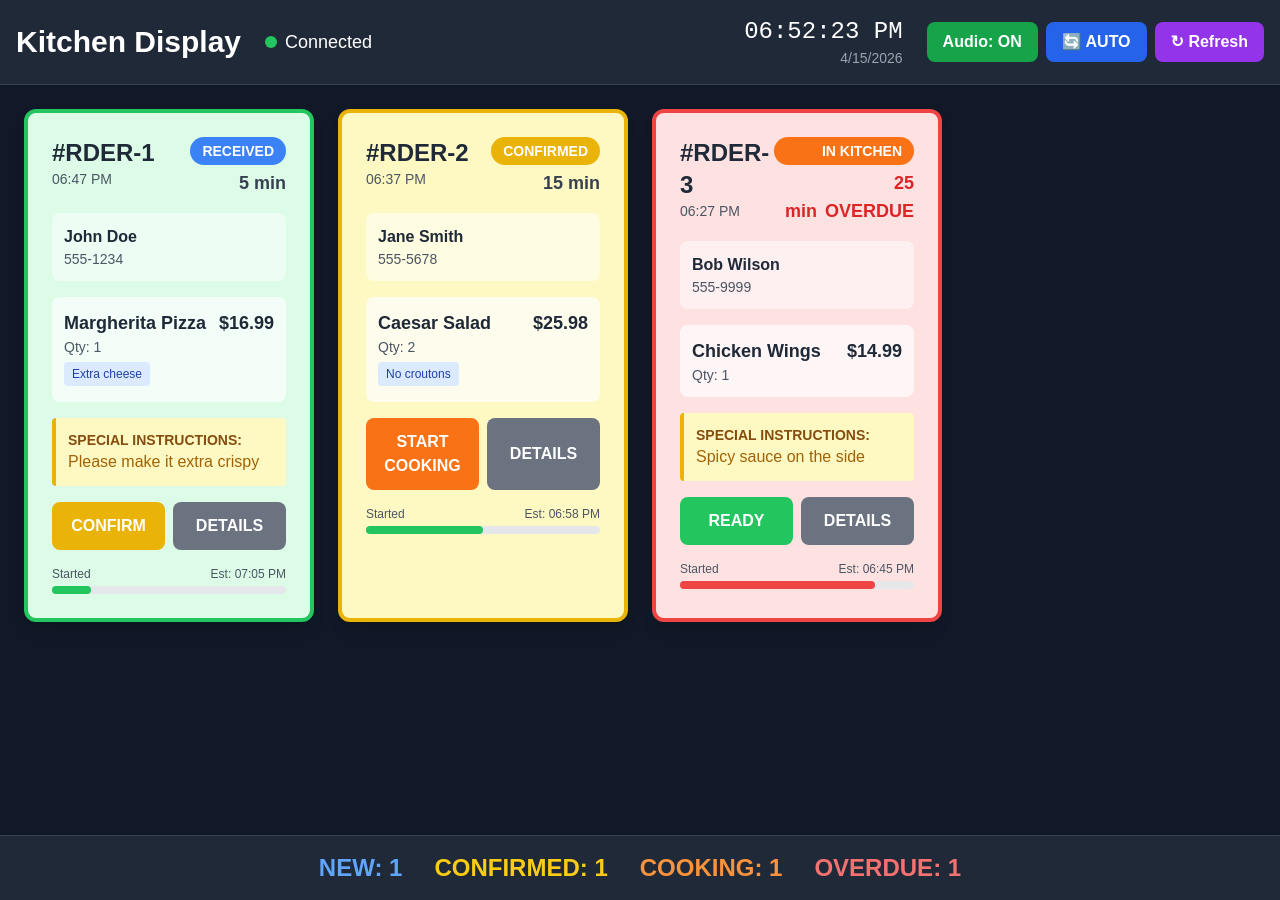
KitchenDisplay › Error Handling › handles status update errors
Click the button "CONFIRM": (108, 526) 52,502 -> 165,550
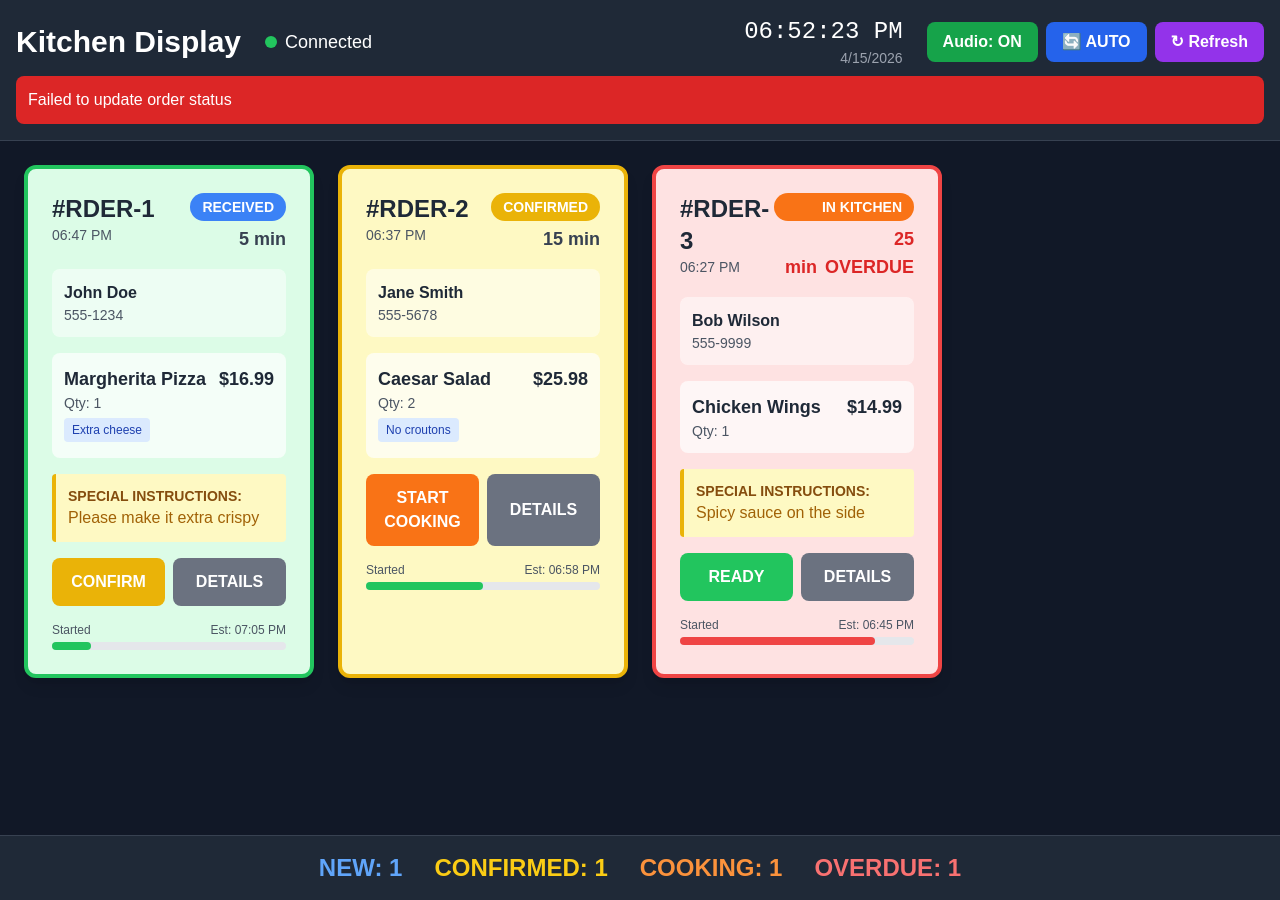
Check: the text "Failed to update order status" is shown, box 16,76 -> 1264,124
